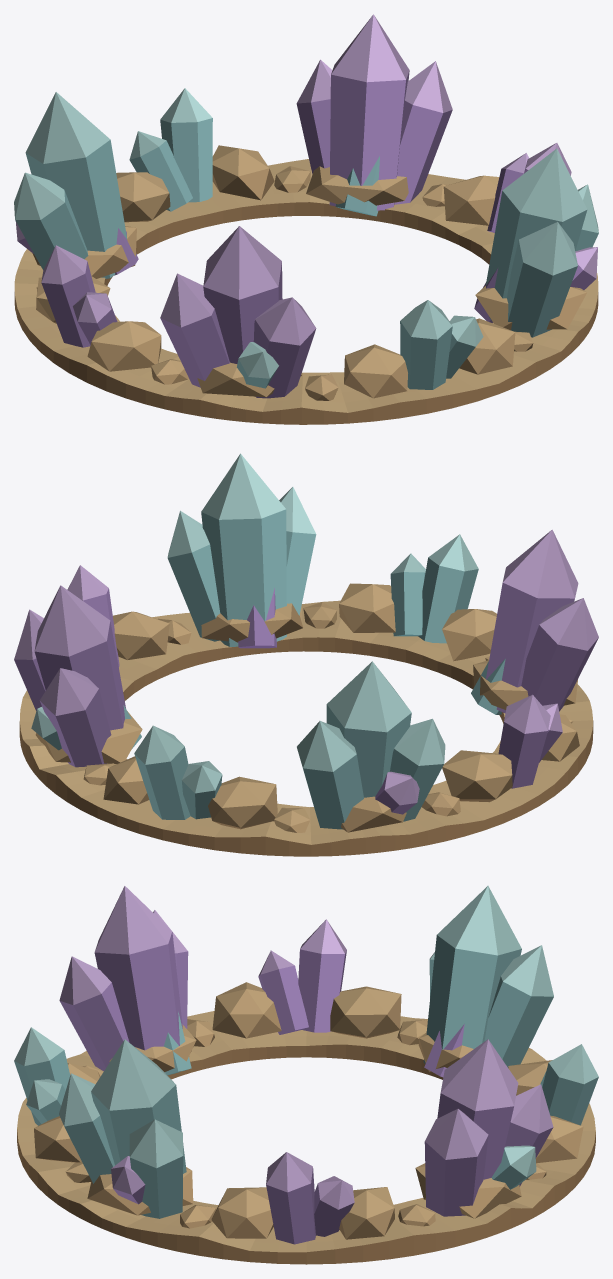
Rendered from habitat_crystal_grotto_overlay.fbx.
The picture shows the model from 3 angles, top to bottom: view 1: azimuth 30°, elevation 25°; view 2: azimuth 150°, elevation 25°; view 3: azimuth 270°, elevation 25°; orthographic projection.
Visible parts, largest first — view 1: habitat_crystal_grotto_overlay; view 2: habitat_crystal_grotto_overlay; view 3: habitat_crystal_grotto_overlay.
Boxes of the visible parts, left/top/right/bottom form: habitat_crystal_grotto_overlay: left=14, top=14, right=598, bottom=424; habitat_crystal_grotto_overlay: left=14, top=453, right=598, bottom=856; habitat_crystal_grotto_overlay: left=14, top=885, right=598, bottom=1264.
Size of the model in its own units: 7.58 by 2.57 by 7.58.
